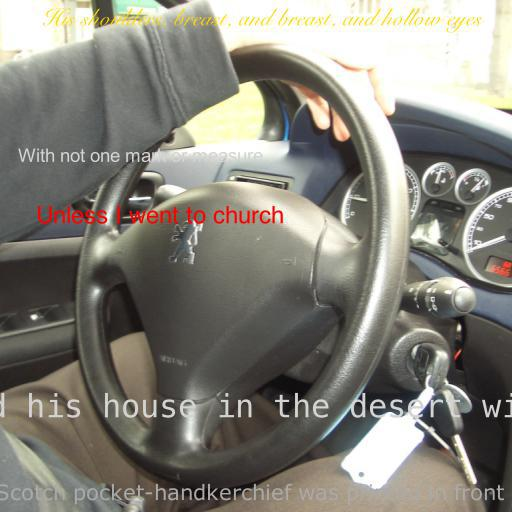Arial: (17, 148, 263, 163)
Big Caslon: (36, 206, 284, 224)
Menlo: (0, 392, 512, 418)
Snell Roundhand: (42, 8, 482, 33)
Verdana: (0, 483, 512, 505)
